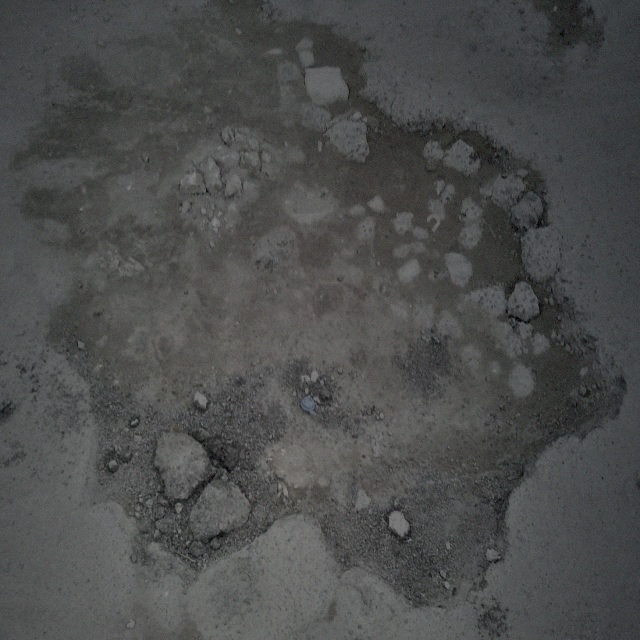pothole: (39, 21, 626, 614)
